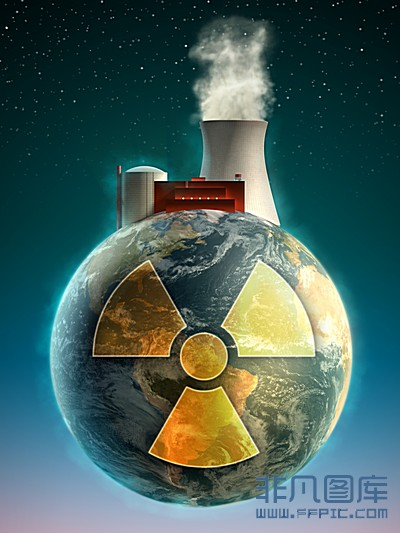dust: (180, 26, 280, 126)
